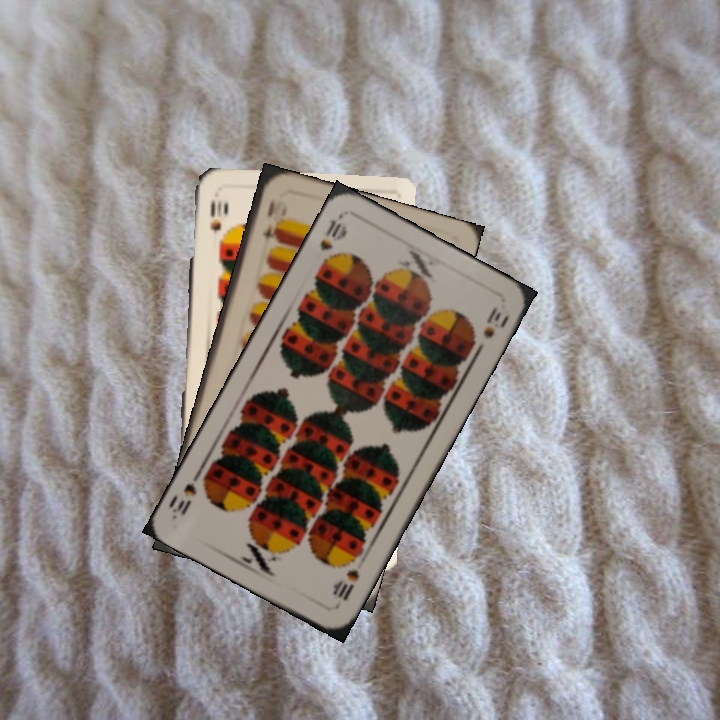E10: (258, 194, 284, 251)
S10: (329, 552, 363, 603), (315, 215, 350, 254), (206, 195, 223, 236)
